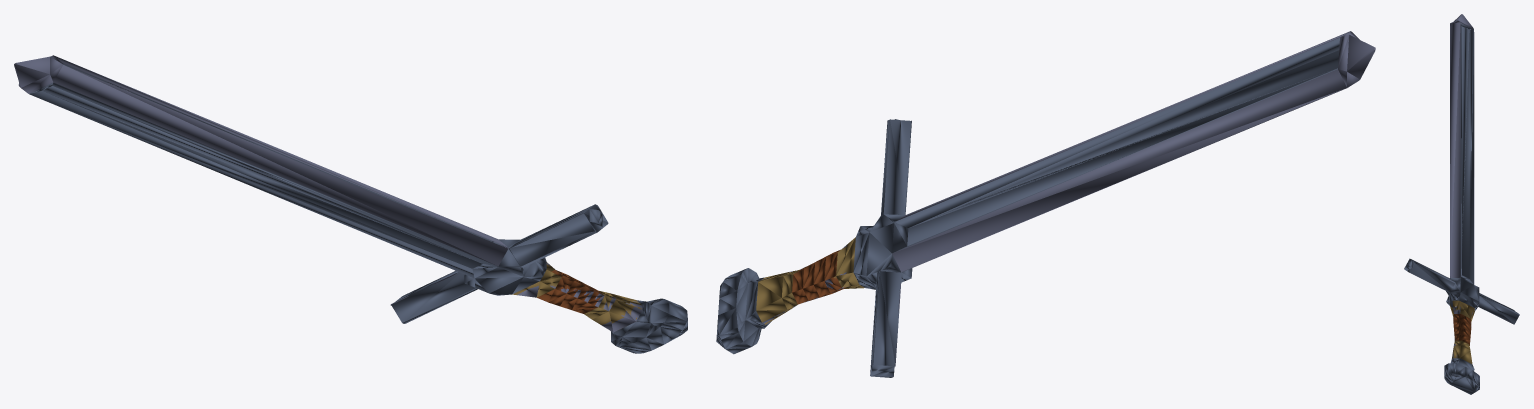
The model's file is swordtest1.fbx.
3 views of the same model, side by side, from view 1: azimuth 30°, elevation 25°; view 2: azimuth 150°, elevation 25°; view 3: azimuth 270°, elevation 25° (orthographic). The views are drawn at different scales.
Visible parts, largest first — view 1: Cube; view 2: Cube; view 3: Cube.
Part boxes in pixels (x1,y1,x2,y2): Cube: [14, 55, 687, 353]; Cube: [716, 31, 1375, 377]; Cube: [1404, 14, 1519, 394].
Size of the model in its own units: 318 by 207 by 95.38.
